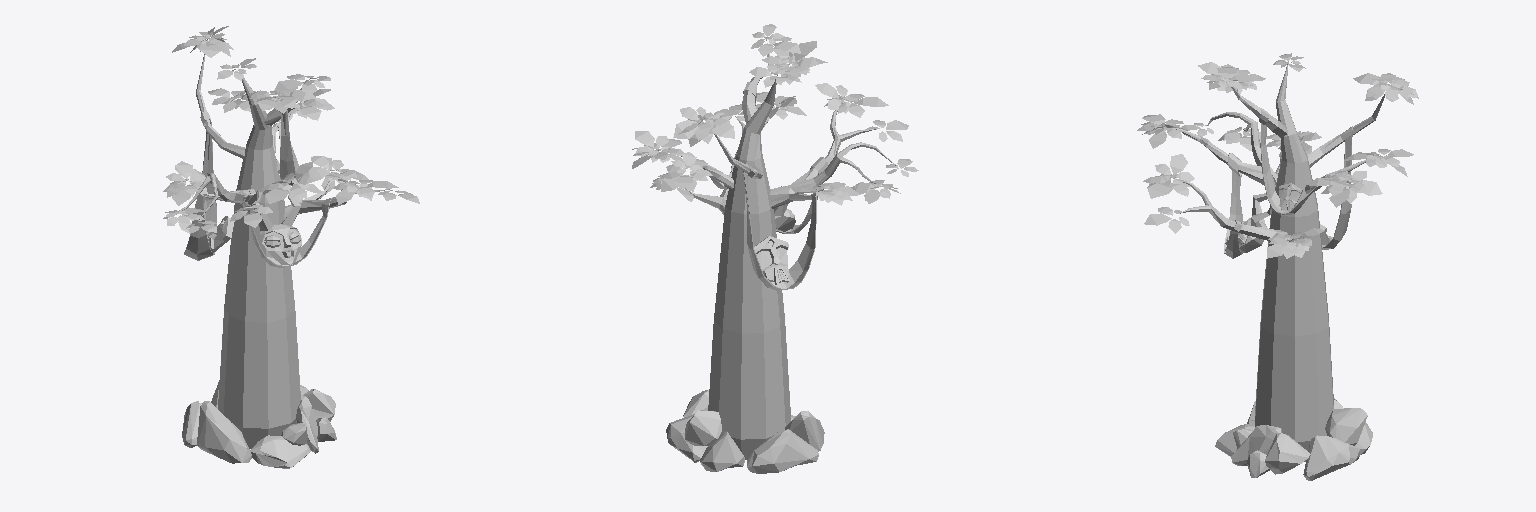
The model's file is Totem.obj.
3 views of the same model, side by side, from view 1: azimuth 30°, elevation 25°; view 2: azimuth 150°, elevation 25°; view 3: azimuth 270°, elevation 25° (orthographic).
Parts seen in each view (by area): view 1: Totem; view 2: Totem; view 3: Totem.
Part boxes in pixels (left/top/right/bottom): Totem: left=163, top=26, right=419, bottom=468; Totem: left=632, top=24, right=918, bottom=473; Totem: left=1137, top=53, right=1418, bottom=480.
Size of the model in its own units: 5.56 by 9.3 by 6.2.